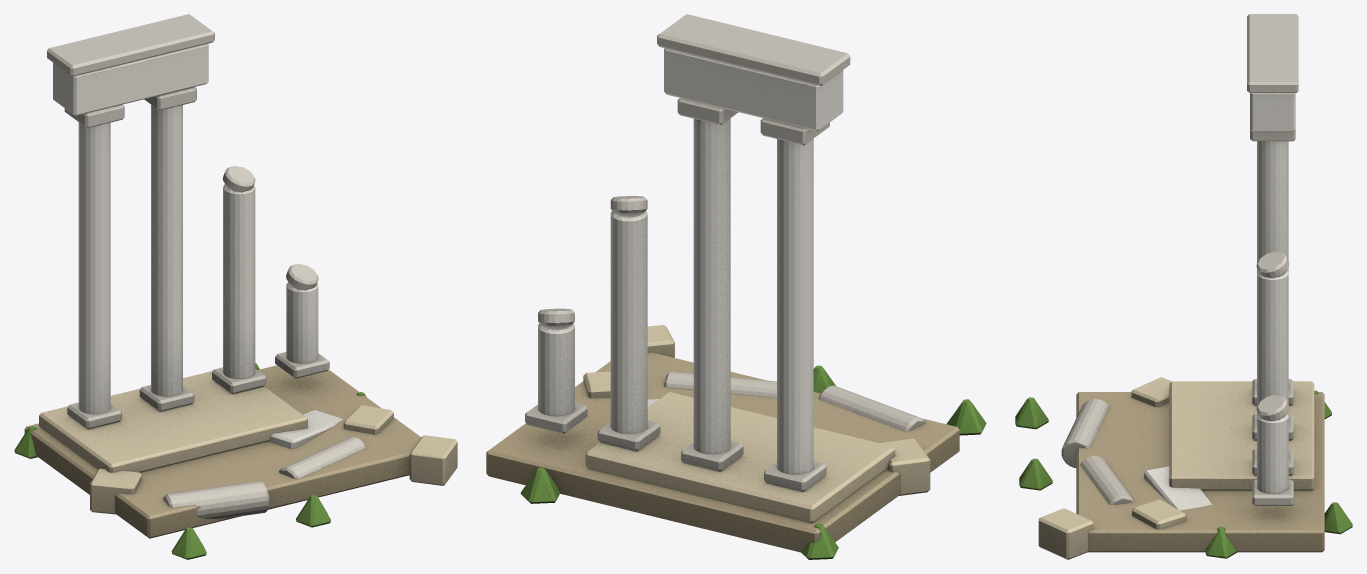
File: ruiny.glb
The picture shows the model from 3 angles, left to right: view 1: azimuth 30°, elevation 25°; view 2: azimuth 150°, elevation 25°; view 3: azimuth 270°, elevation 25°; orthographic projection. The views are drawn at different scales.
Visible parts, largest first — view 1: ruiny; view 2: ruiny; view 3: ruiny.
Boxes of the visible parts, x1,y1,x2,y2 form: ruiny: (14,14,457,559); ruiny: (486,14,986,559); ruiny: (1015,14,1352,559).
Bounding box in the file's own units: 1.77 × 2.18 × 1.63.
Materials: 1 (1 with a texture image).
